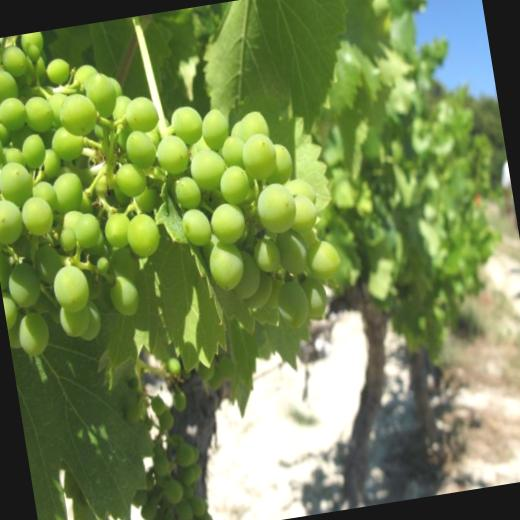Orange: (0, 0, 350, 373), (118, 354, 215, 520)
